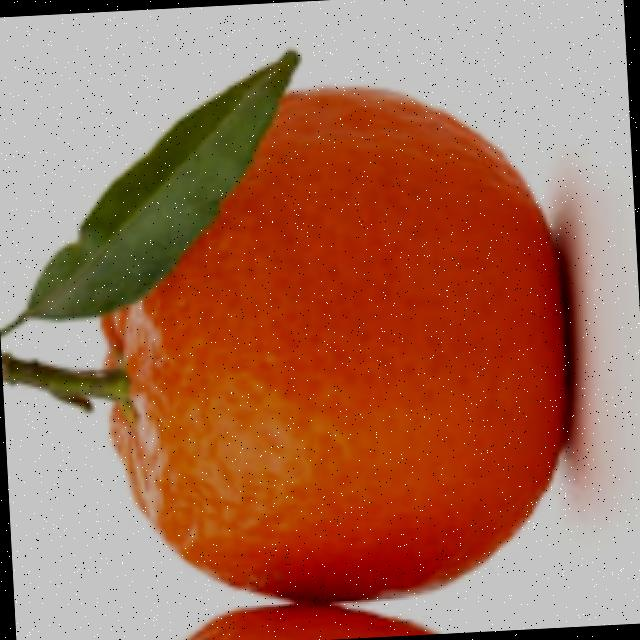orange: (76, 72, 586, 617)
